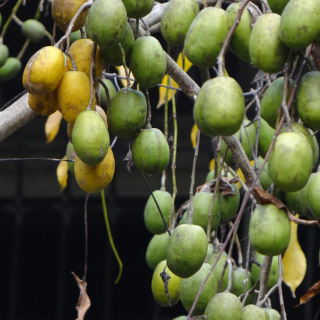coc: (194, 76, 245, 135), (184, 5, 230, 69), (267, 130, 312, 191), (250, 200, 291, 256), (167, 224, 207, 279), (72, 109, 109, 166), (131, 127, 171, 176), (131, 35, 166, 88)
